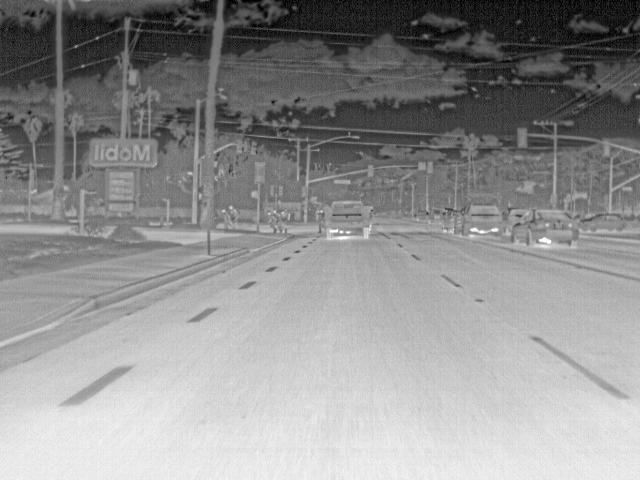car: (508, 206, 577, 247), (324, 199, 372, 239), (453, 203, 501, 237), (581, 209, 634, 232), (498, 204, 533, 232), (442, 208, 454, 232), (430, 209, 446, 224), (414, 209, 429, 222)
person: (269, 206, 283, 234), (315, 207, 325, 235), (229, 203, 239, 228), (221, 207, 231, 232), (283, 207, 292, 234)
